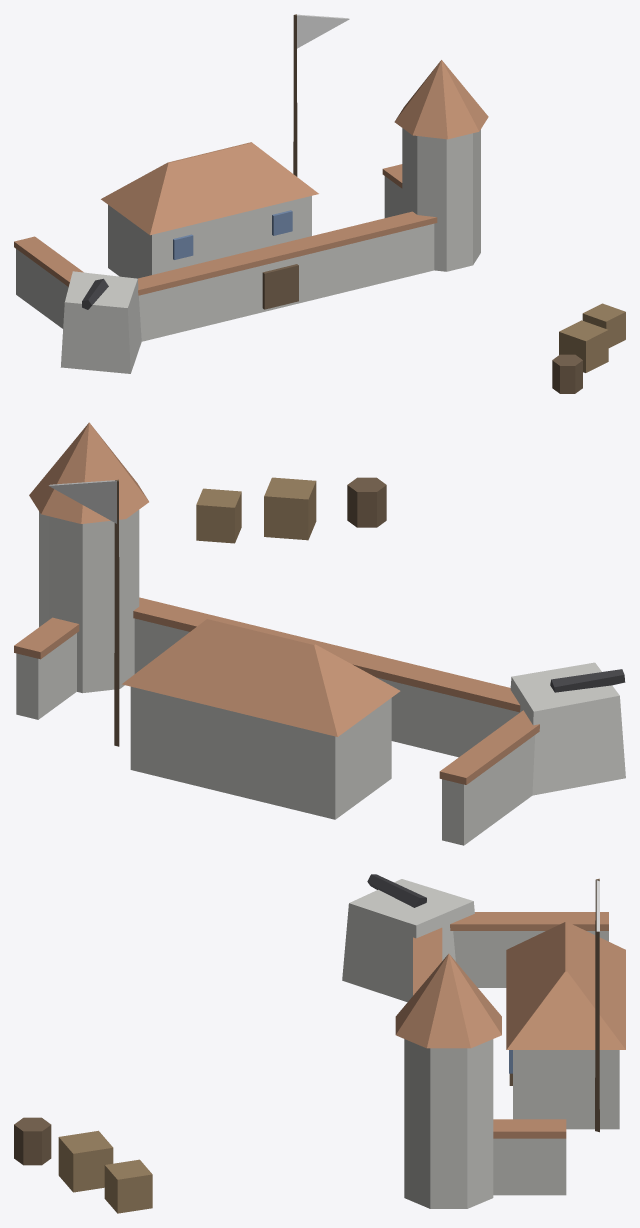
Rendered from feitoria.glb.
3 views of the same model, one above another, from view 1: azimuth 30°, elevation 25°; view 2: azimuth 150°, elevation 25°; view 3: azimuth 270°, elevation 25° (orthographic). The views are drawn at different scales.
Parts seen in each view (by area): view 1: LOD0; view 2: LOD0; view 3: LOD0.
Boxes of the visible parts, <box> form: LOD0: <box>14,14,625,393</box>; LOD0: <box>14,422,625,845</box>; LOD0: <box>14,874,625,1213</box>.
Size of what is drawn, in the model's own units: 1.17 by 0.54 by 1.15.
